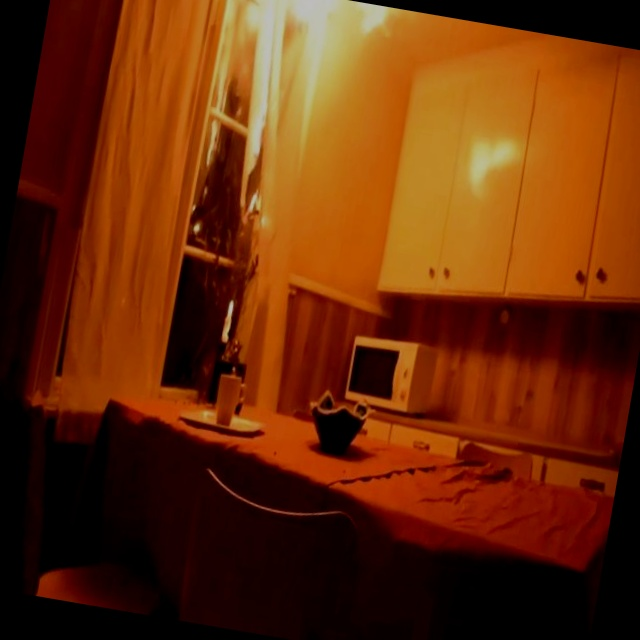fire: (191, 0, 407, 175)
